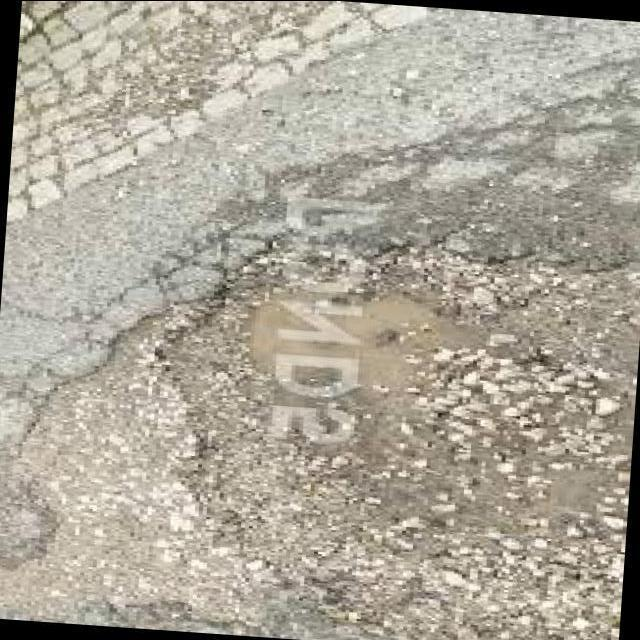pothole: (2, 241, 640, 640), (540, 125, 578, 162)
